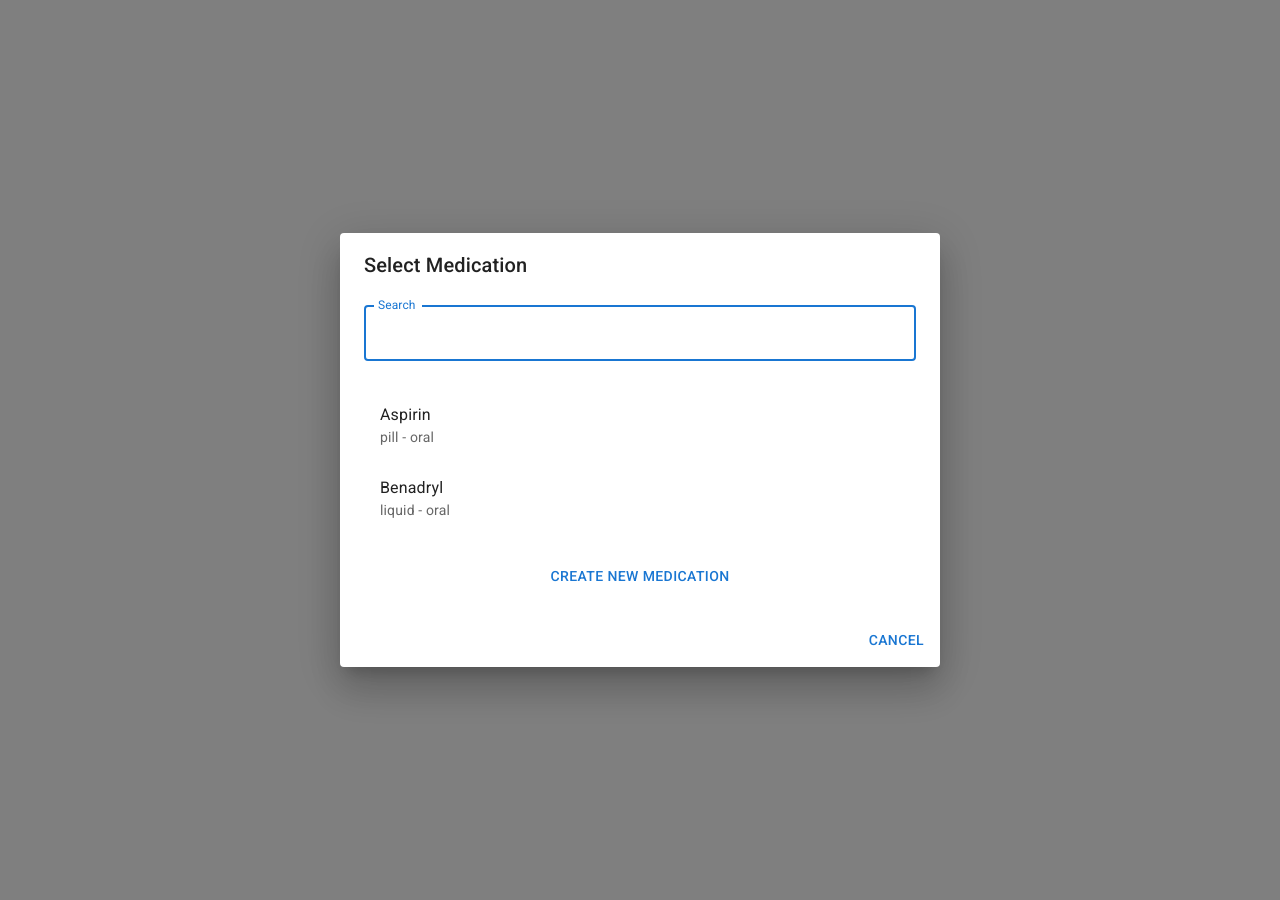
MedicationCatalogDialog › should filter medications based on search
Type "Asp" into the field labelled "Search". click: (640, 334)
box: top-left (364, 306), bottom-right (916, 362)
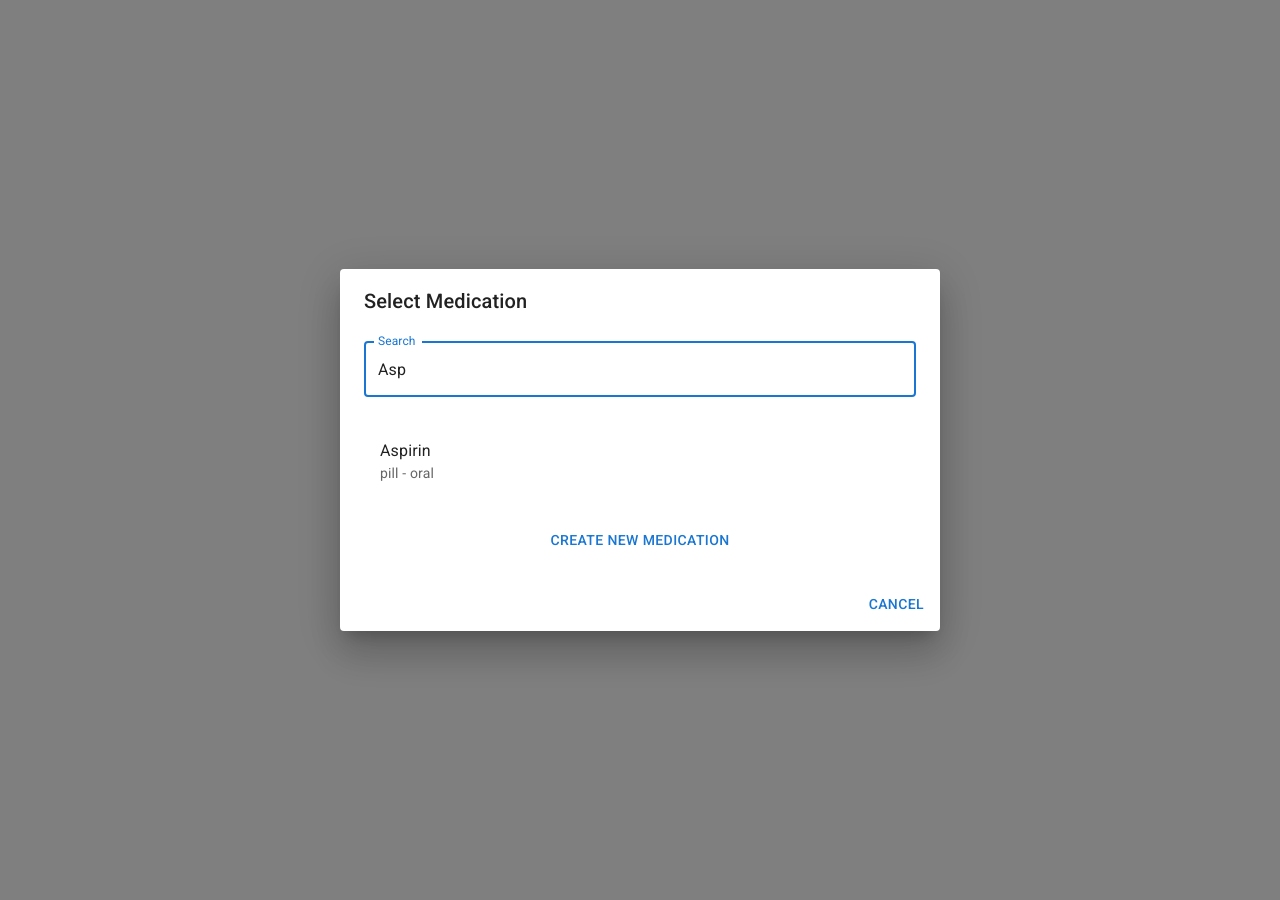
Expected: the text "Aspirin" is shown, top-left (380, 442), bottom-right (431, 460)
Result: the button "Benadryl" is gone
